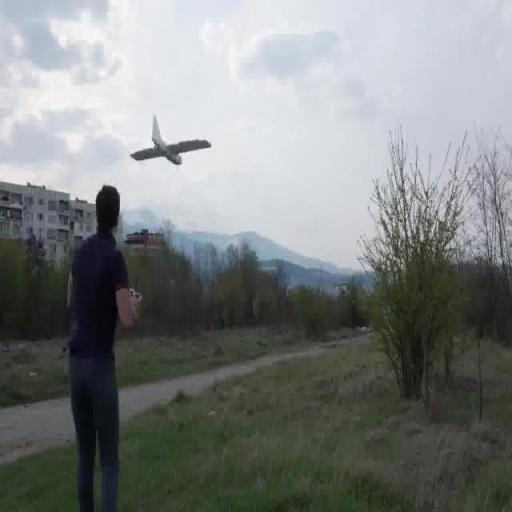uav: (127, 109, 211, 183)
